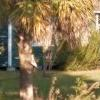Tree: (12, 0, 100, 71)
